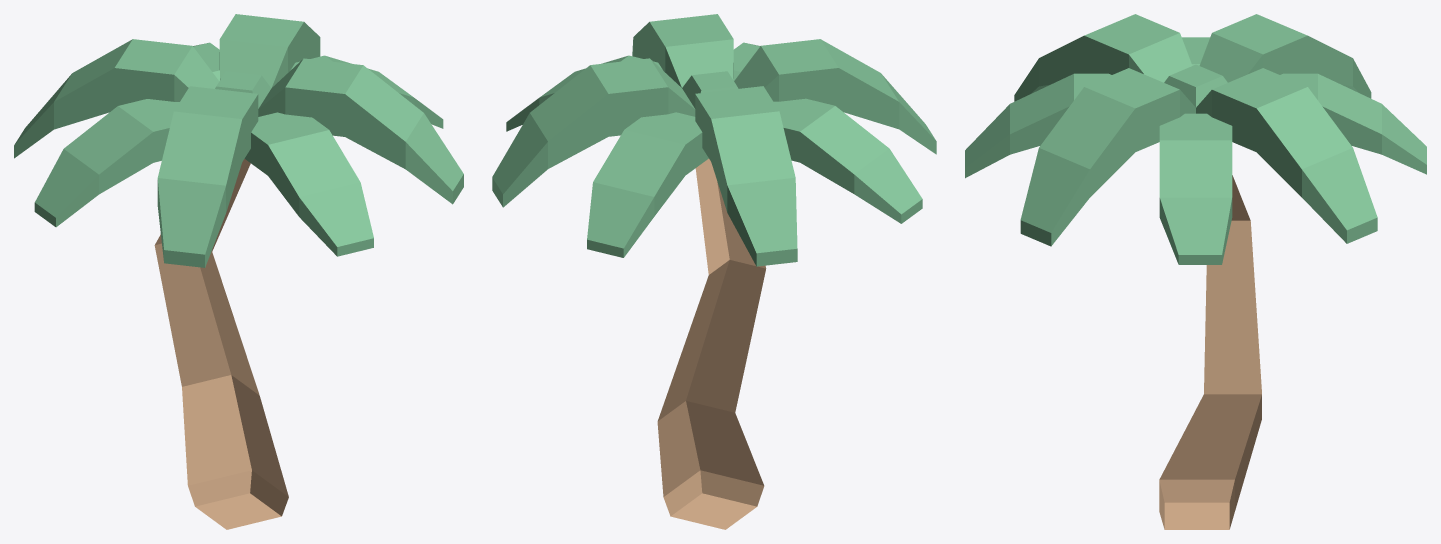
The model's file is palmier_detaille_court.glb.
3 views of the same model, side by side, from view 1: azimuth 30°, elevation 25°; view 2: azimuth 150°, elevation 25°; view 3: azimuth 270°, elevation 25° (orthographic). The views are drawn at different scales.
Visible parts, largest first — view 1: palmier_detaille_court_assimp; view 2: palmier_detaille_court_assimp; view 3: palmier_detaille_court_assimp.
Part boxes in pixels (left/top/right/bottom): palmier_detaille_court_assimp: left=14, top=14, right=463, bottom=529; palmier_detaille_court_assimp: left=492, top=14, right=936, bottom=529; palmier_detaille_court_assimp: left=965, top=14, right=1426, bottom=529.
Bounding box in the file's own units: 15.44 × 16.79 × 15.44.
